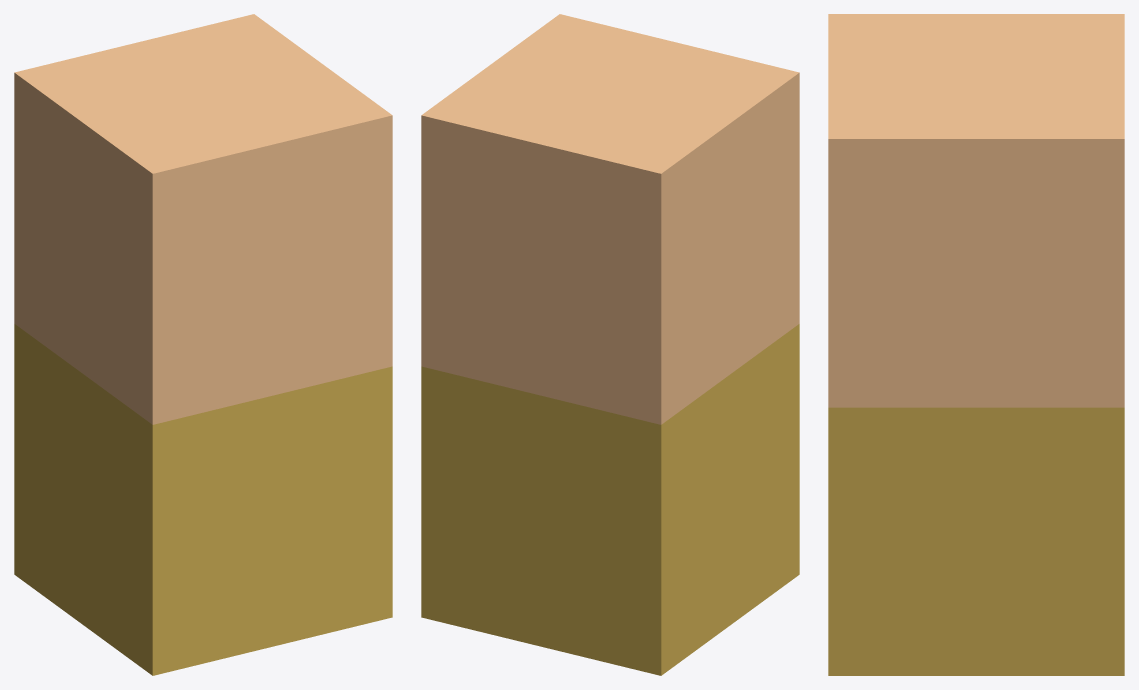
The model's file is Player_Cheetah_LLeg.obj.
The picture shows the model from 3 angles, left to right: view 1: azimuth 30°, elevation 25°; view 2: azimuth 150°, elevation 25°; view 3: azimuth 270°, elevation 25°; orthographic projection. The views are drawn at different scales.
Bounding box in the file's own units: 0.1 × 0.2 × 0.1.
1 material, 1 textured.
